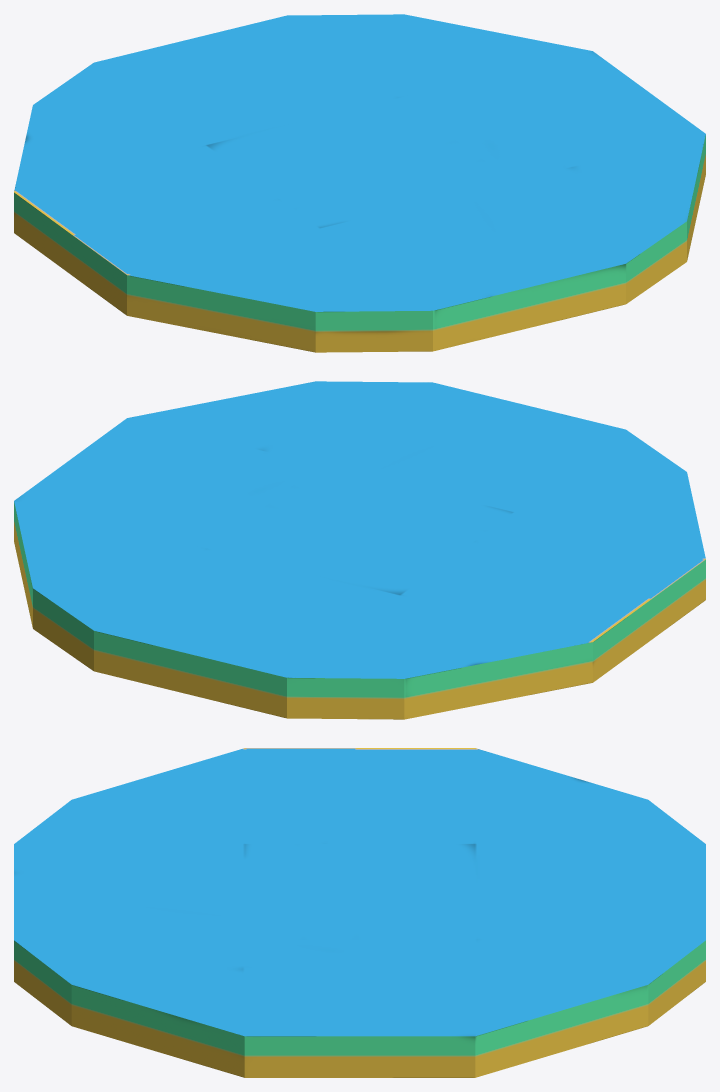
Rendered from ExportedBlenderFBXFile.fbx.
3 renders of one model, top to bottom at view 1: azimuth 30°, elevation 25°; view 2: azimuth 150°, elevation 25°; view 3: azimuth 270°, elevation 25°, orthographic. The views are drawn at different scales.
Visible parts, largest first — view 1: Cube; view 2: Cube; view 3: Cube.
Boxes of the visible parts, bbox=[...] form: Cube: bbox=[14, 14, 705, 352]; Cube: bbox=[14, 381, 705, 719]; Cube: bbox=[14, 748, 705, 1077].
Bounding box in the file's own units: 9.83 × 0.6603 × 9.97.
